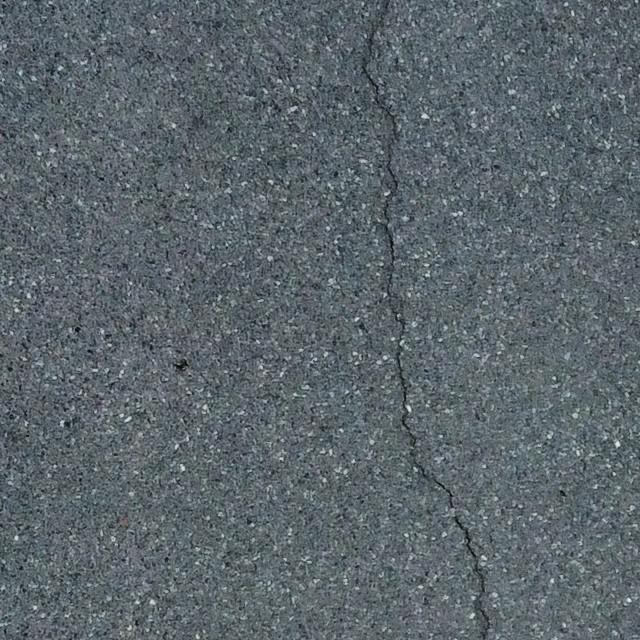LongitudinalCrack: (360, 1, 491, 639)
